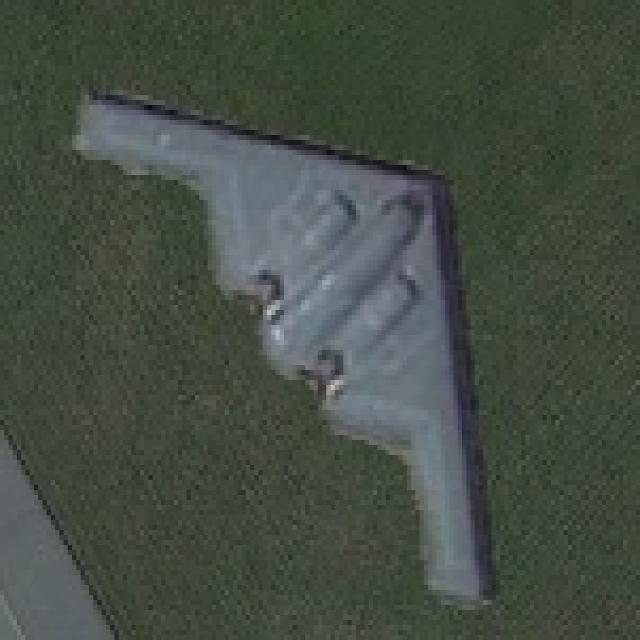B-2_TopDown: (63, 75, 513, 615)
